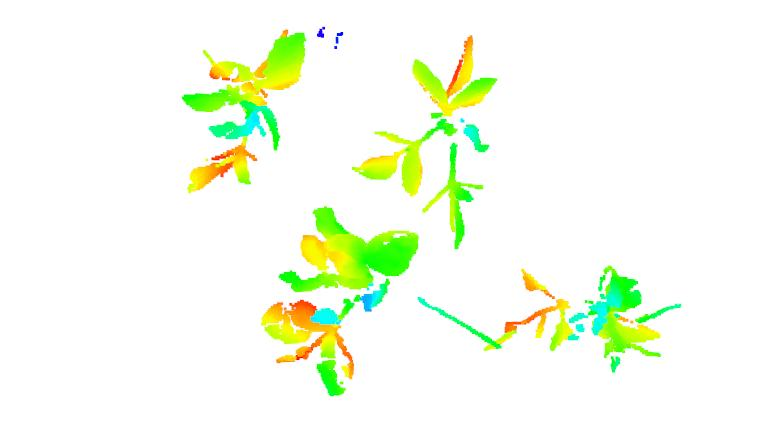mungbean: (257, 201, 419, 398), (357, 31, 503, 234), (176, 29, 317, 194), (471, 262, 670, 372)
